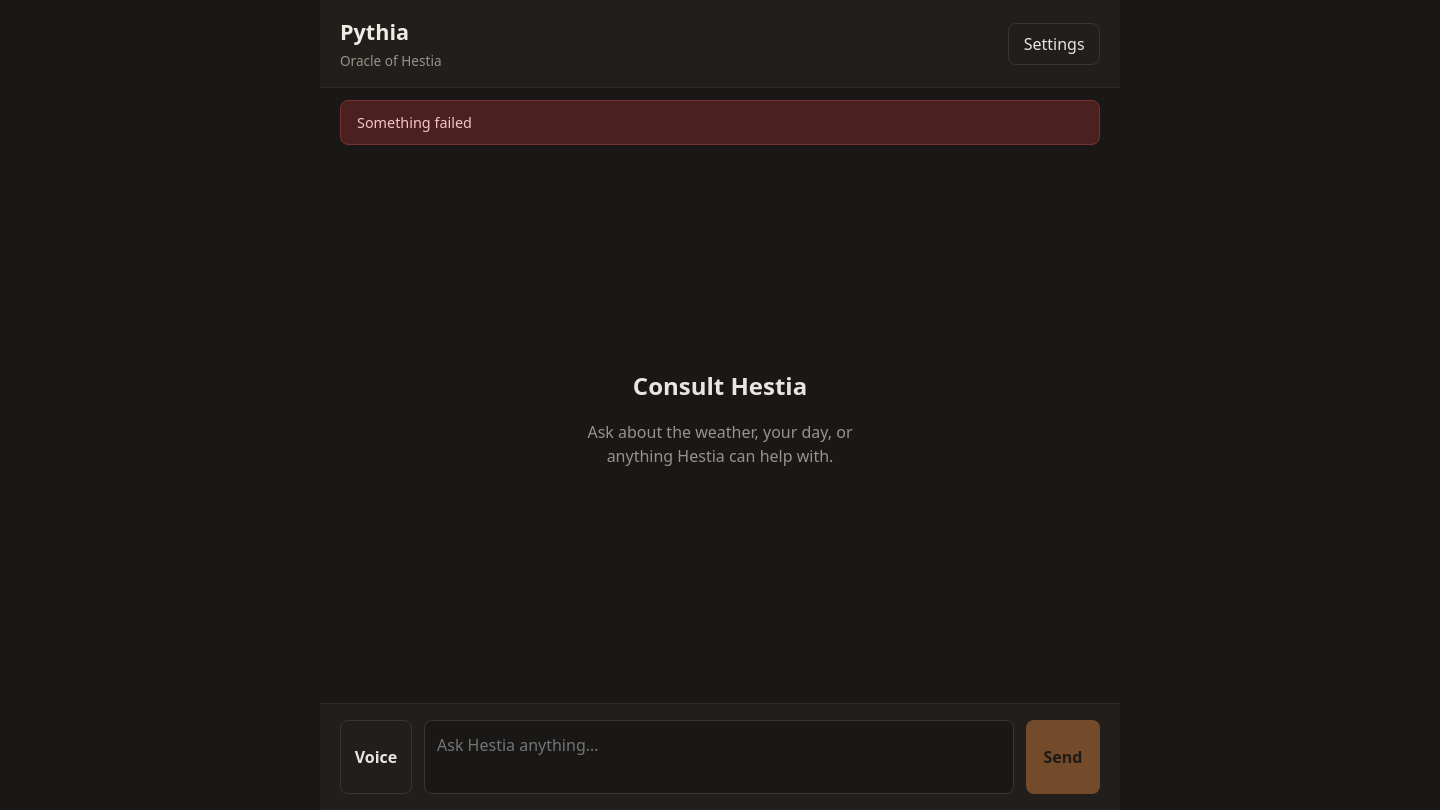
Test: App › shows stream errors and opens settings on demand
Expected: the text "Something failed" is shown, [340,100,1100,145]
Click the button "Settings" at point(1054, 44), box [1008,23,1100,65]
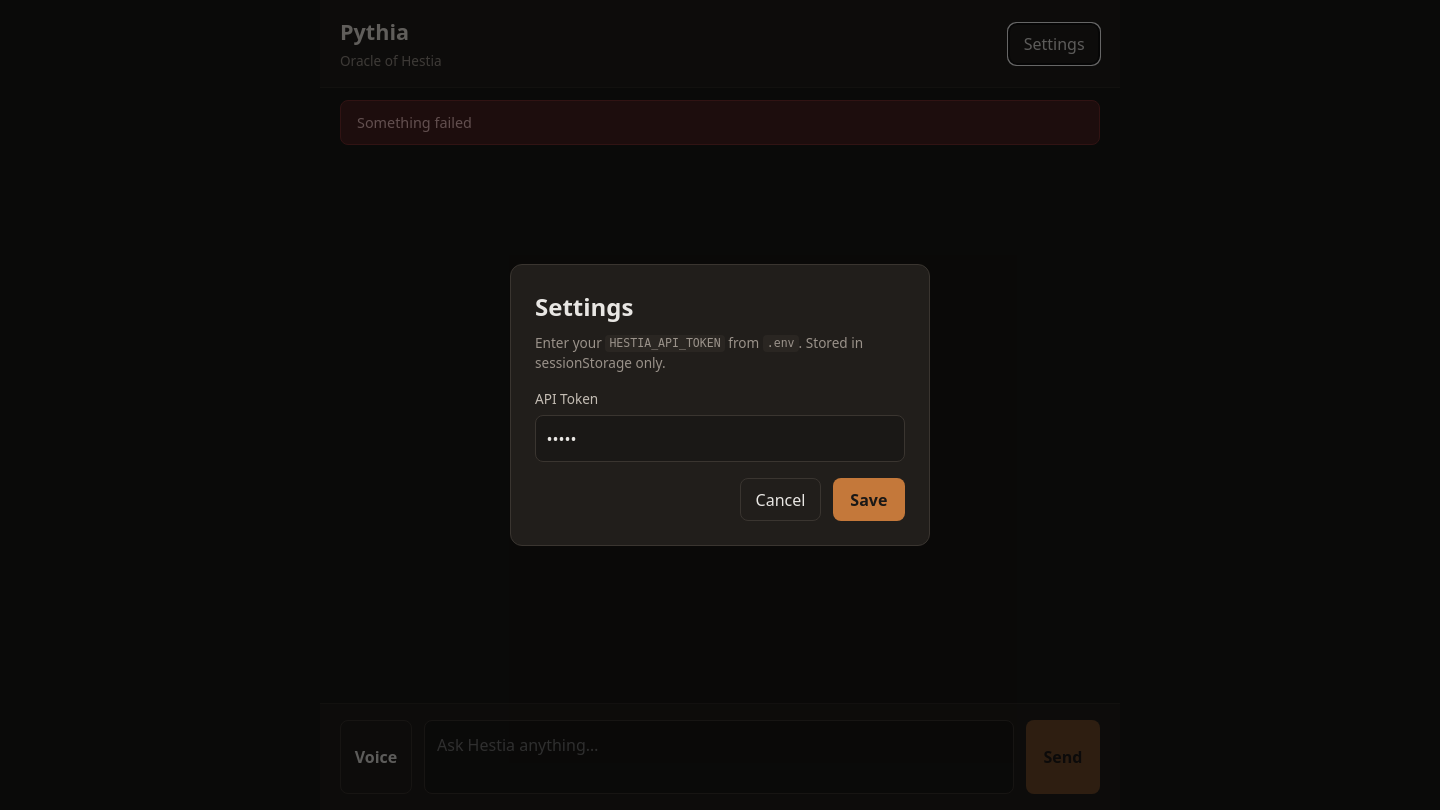
Expected: the password field labelled "API Token" is shown, [535,415,905,462]
